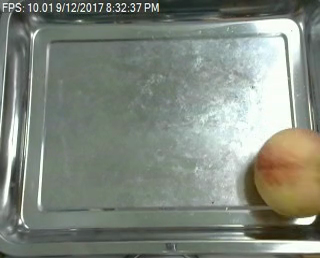Peach: (252, 126, 319, 218)
